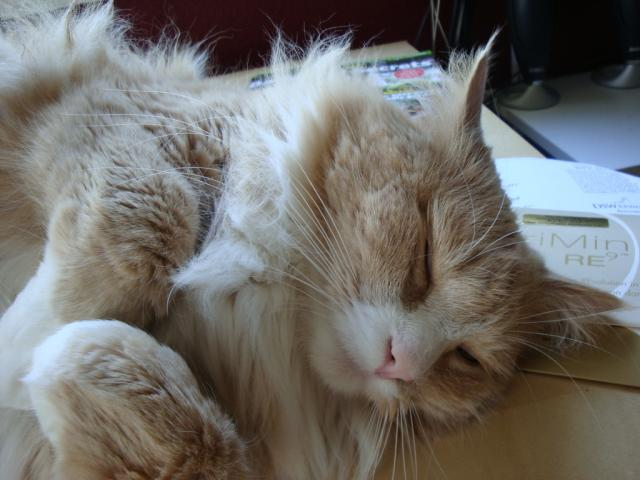Cat: (2, 4, 640, 480)
